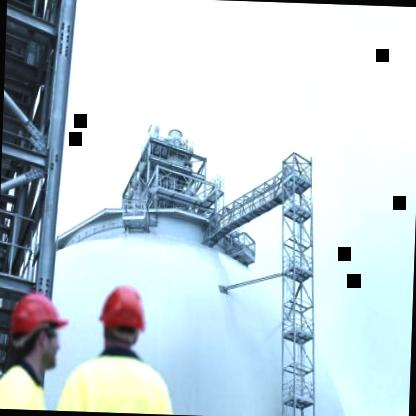helmet: (5, 289, 70, 369), (94, 276, 151, 358)
